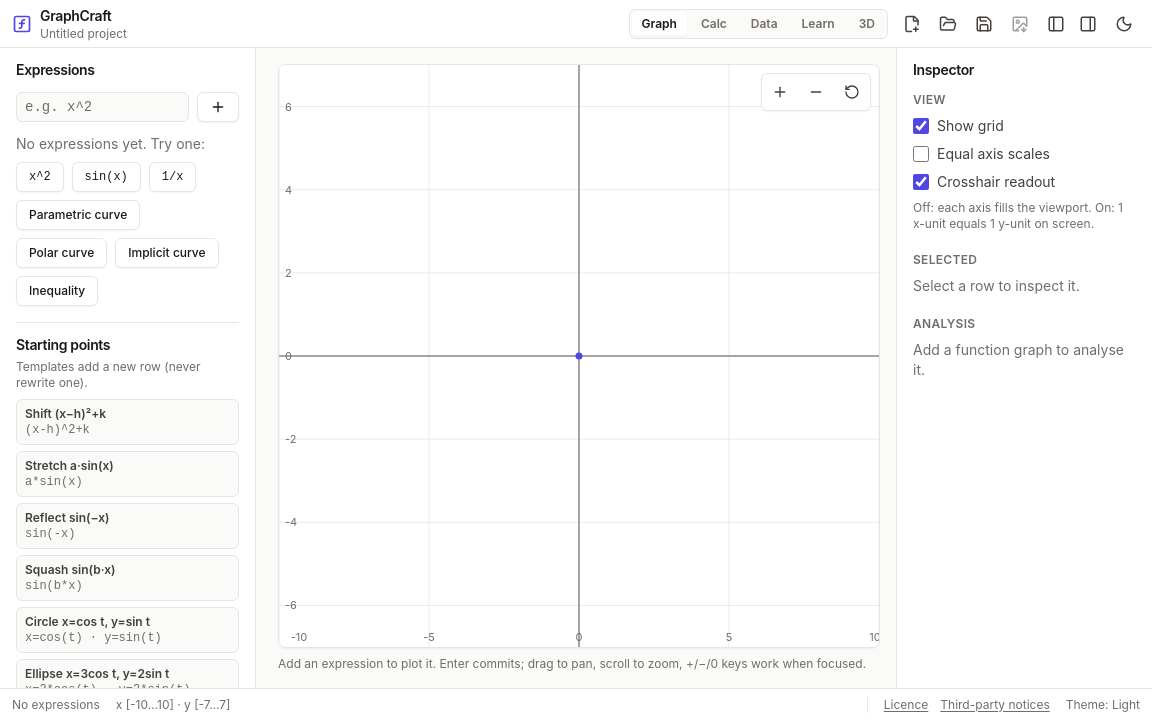
analysis integration › finds roots of x^2 - 4 and marks them on y = 0
Type "x^2-4" into the field named "New expression" at (102, 107), box [16,92,189,122]
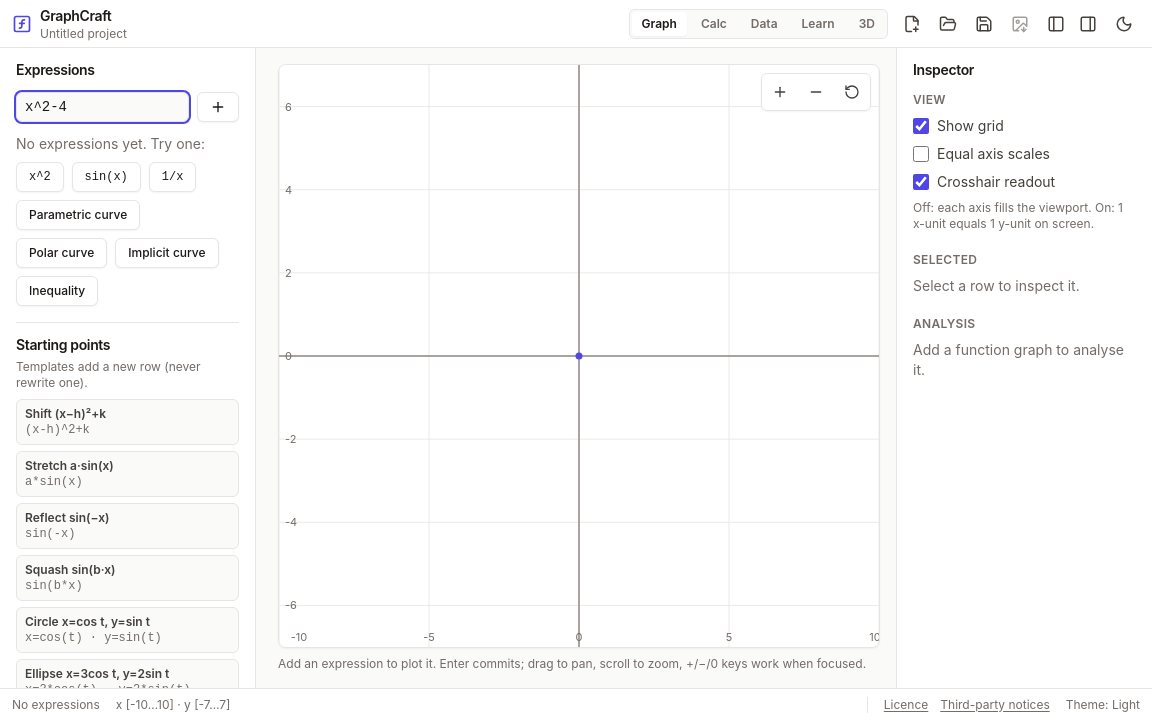
Press Enter
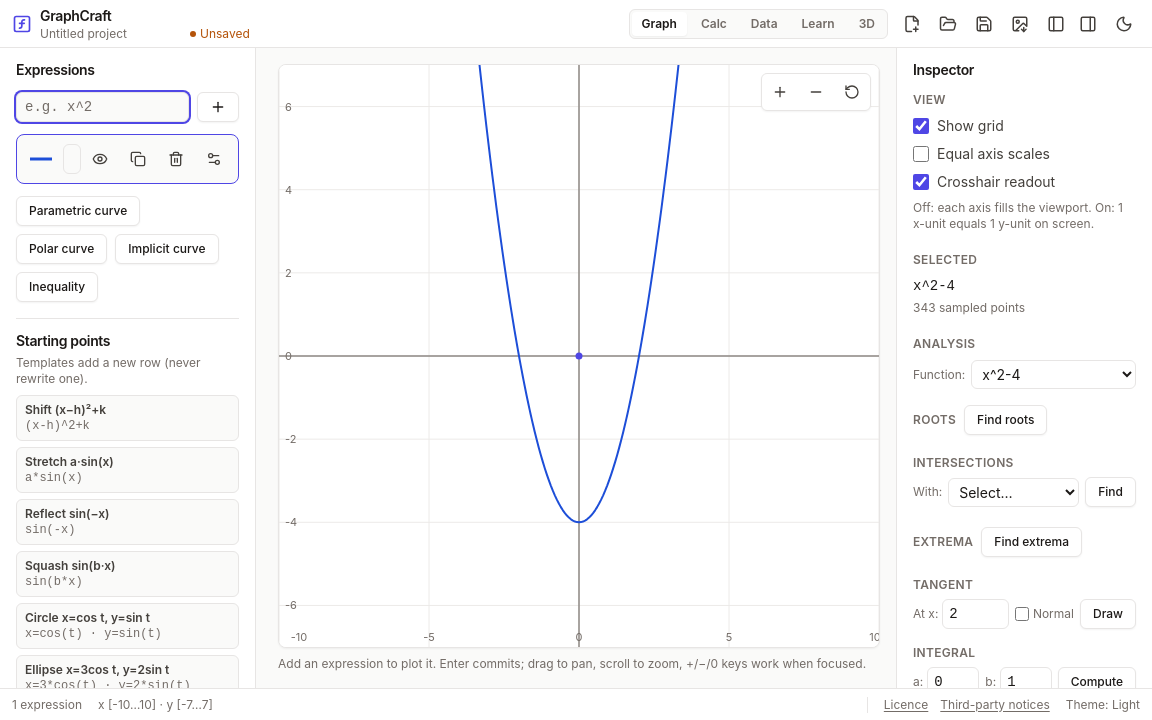
Click the button "Find roots" at (1006, 420), box [964,405,1047,435]
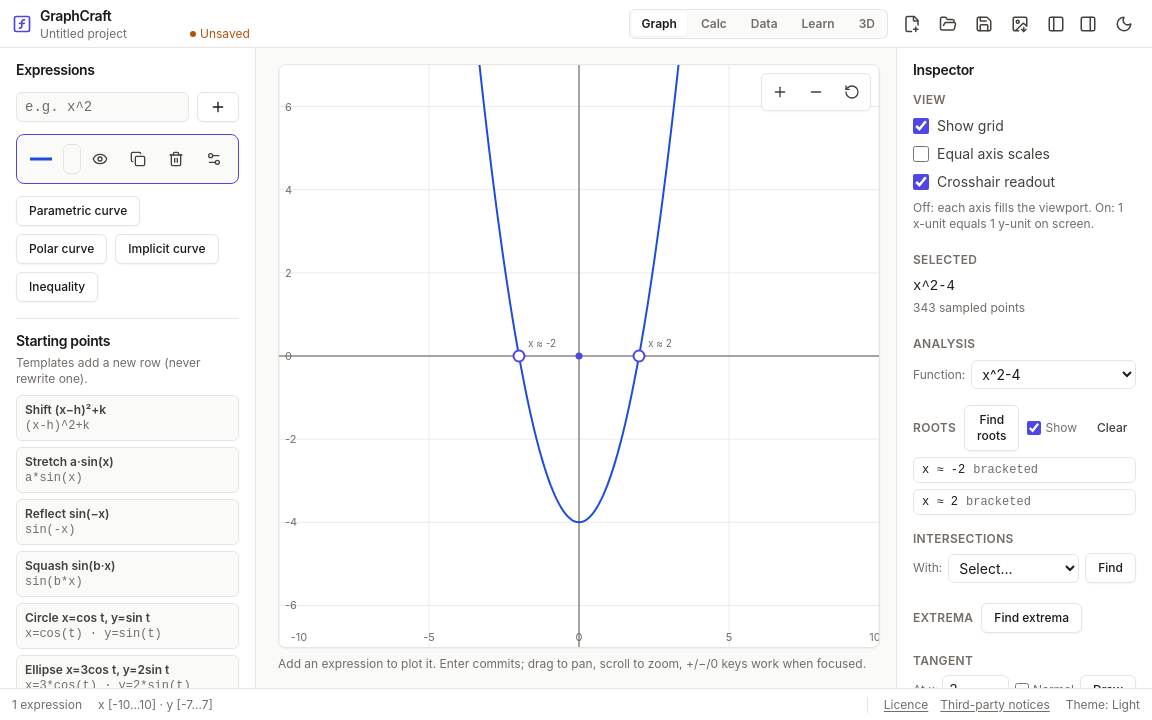
Result: the button "x ≈ -2bracketed" is shown at [913,457,1136,483]
Result: the button "x ≈ 2bracketed" is shown at [913,489,1136,515]
Result: the picture named "graph viewport" shows "x ≈ -2" at [528,337,556,349]
